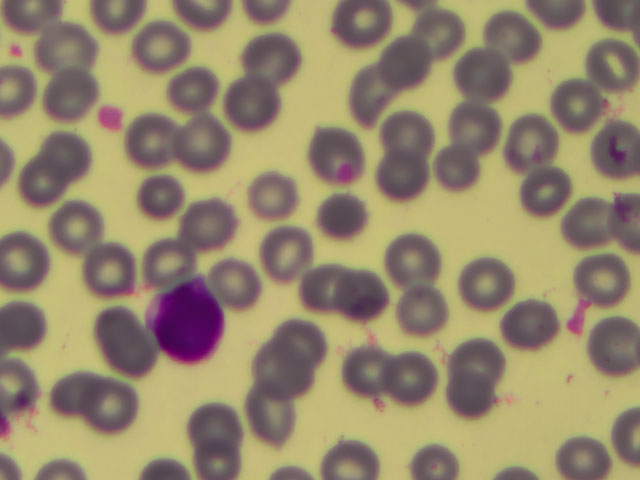Platelets: (563, 298, 593, 336), (97, 102, 123, 129), (8, 39, 28, 62)
RBC: (39, 24, 96, 78), (43, 70, 100, 124), (37, 123, 94, 177), (19, 151, 76, 205), (50, 194, 107, 248), (80, 244, 137, 298), (135, 232, 192, 286), (180, 194, 237, 248), (127, 169, 184, 223), (126, 113, 183, 167), (175, 118, 232, 172), (169, 62, 226, 116), (132, 19, 189, 73), (225, 75, 282, 129), (237, 35, 294, 89), (311, 122, 368, 176), (255, 169, 312, 223), (257, 225, 314, 279), (208, 251, 265, 305), (274, 311, 331, 365), (249, 335, 306, 389), (250, 392, 307, 446), (192, 396, 249, 450), (89, 378, 146, 432), (52, 362, 109, 416), (104, 330, 161, 384), (88, 300, 145, 354), (284, 262, 341, 316), (347, 272, 404, 326), (386, 231, 443, 285), (395, 288, 452, 342), (392, 354, 449, 408), (338, 345, 395, 399), (321, 426, 378, 480), (440, 369, 497, 423), (450, 329, 507, 383), (461, 258, 518, 312), (499, 296, 556, 350), (583, 317, 640, 371), (561, 426, 618, 480), (582, 250, 639, 304), (558, 196, 615, 250), (524, 173, 581, 227), (501, 123, 558, 177), (539, 80, 596, 134), (581, 39, 638, 93), (463, 52, 520, 106), (447, 103, 504, 157), (427, 150, 484, 204), (381, 157, 438, 211), (380, 104, 437, 158), (340, 73, 397, 127), (377, 34, 434, 88), (413, 7, 470, 61), (490, 5, 547, 59), (331, 3, 388, 57), (1, 237, 57, 291)
WBC: (153, 284, 231, 360)
